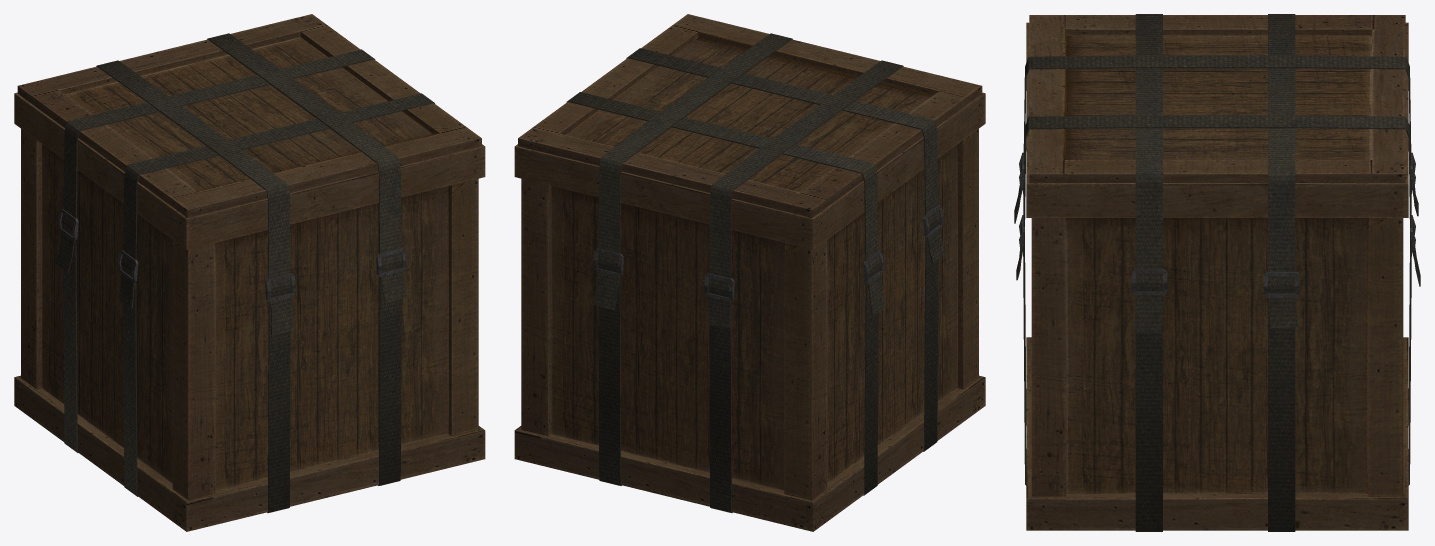
The model's file is wooden_crate_hx_5_2.obj.
The picture shows the model from 3 angles, left to right: view 1: azimuth 30°, elevation 25°; view 2: azimuth 150°, elevation 25°; view 3: azimuth 270°, elevation 25°; orthographic projection. The views are drawn at different scales.
Parts seen in each view (by area): view 1: wooden_crate_hx_5_2; view 2: wooden_crate_hx_5_2; view 3: wooden_crate_hx_5_2.
Part boxes in pixels (x1,y1,x2,y2): wooden_crate_hx_5_2: (14, 14, 485, 531); wooden_crate_hx_5_2: (514, 14, 985, 531); wooden_crate_hx_5_2: (1014, 14, 1420, 531).
Size of the model in its own units: 1.49 by 1.46 by 1.49.
